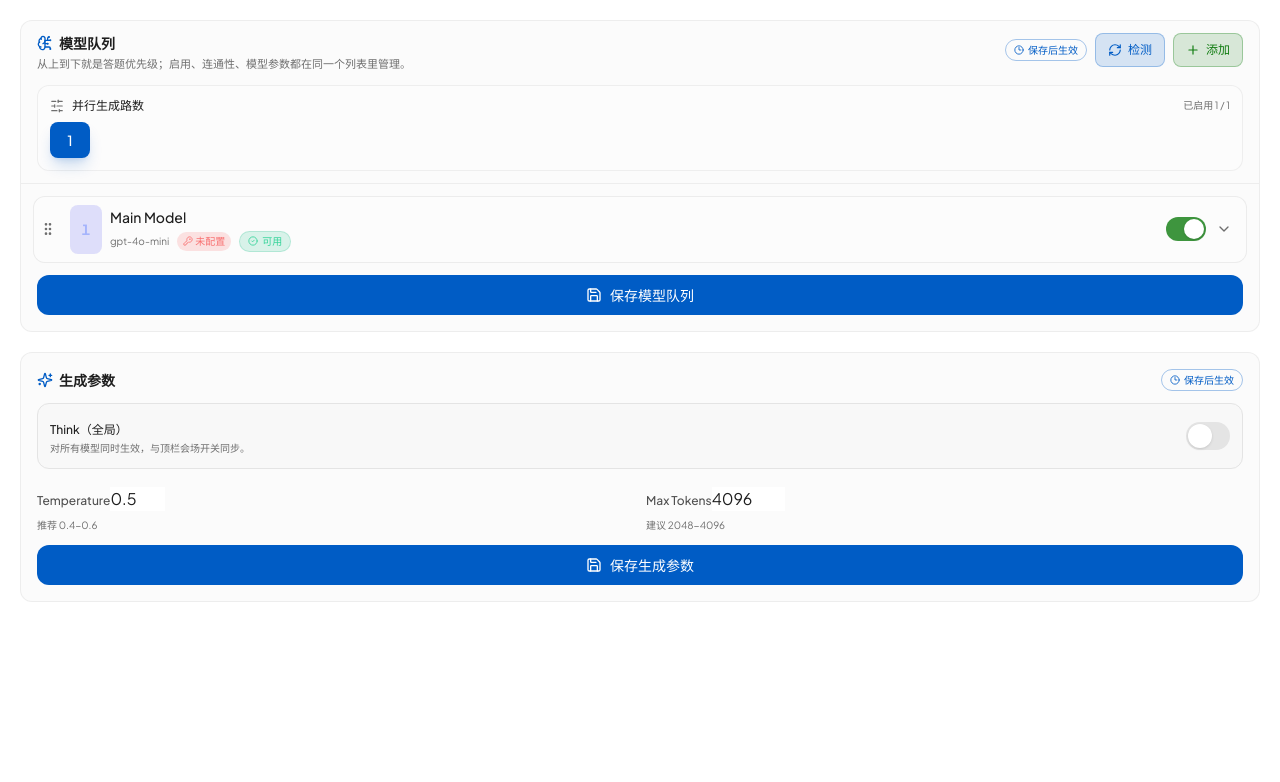
Scenario: ModelsTab state sync › fetches remote models and fills name plus model id from the dropdown
Check: the button "保存模型队列" is shown, box left=37, top=275, right=1243, bottom=315
Click the text "Main Model" at (148, 217), box left=110, top=207, right=186, bottom=227
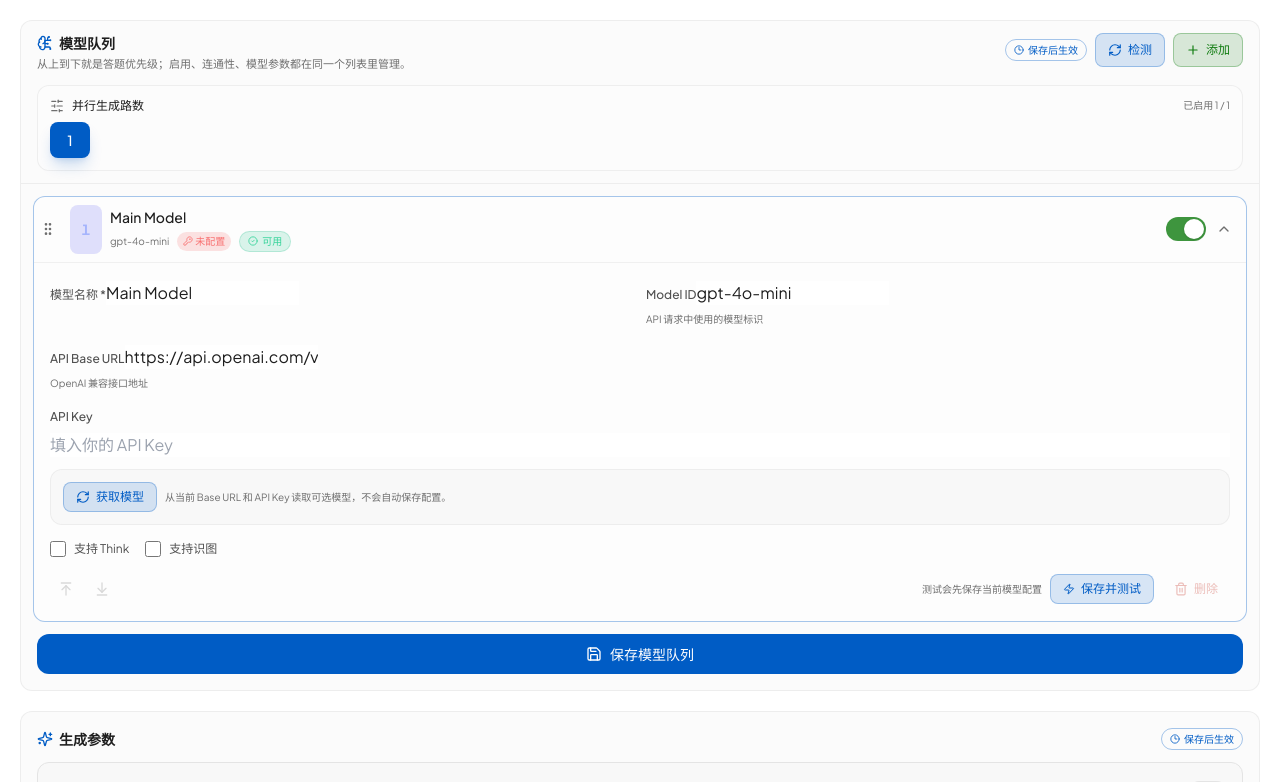
Type "sk-test" into the field with placeholder "填入你的 API Key" at (640, 445), box left=50, top=433, right=1230, bottom=457
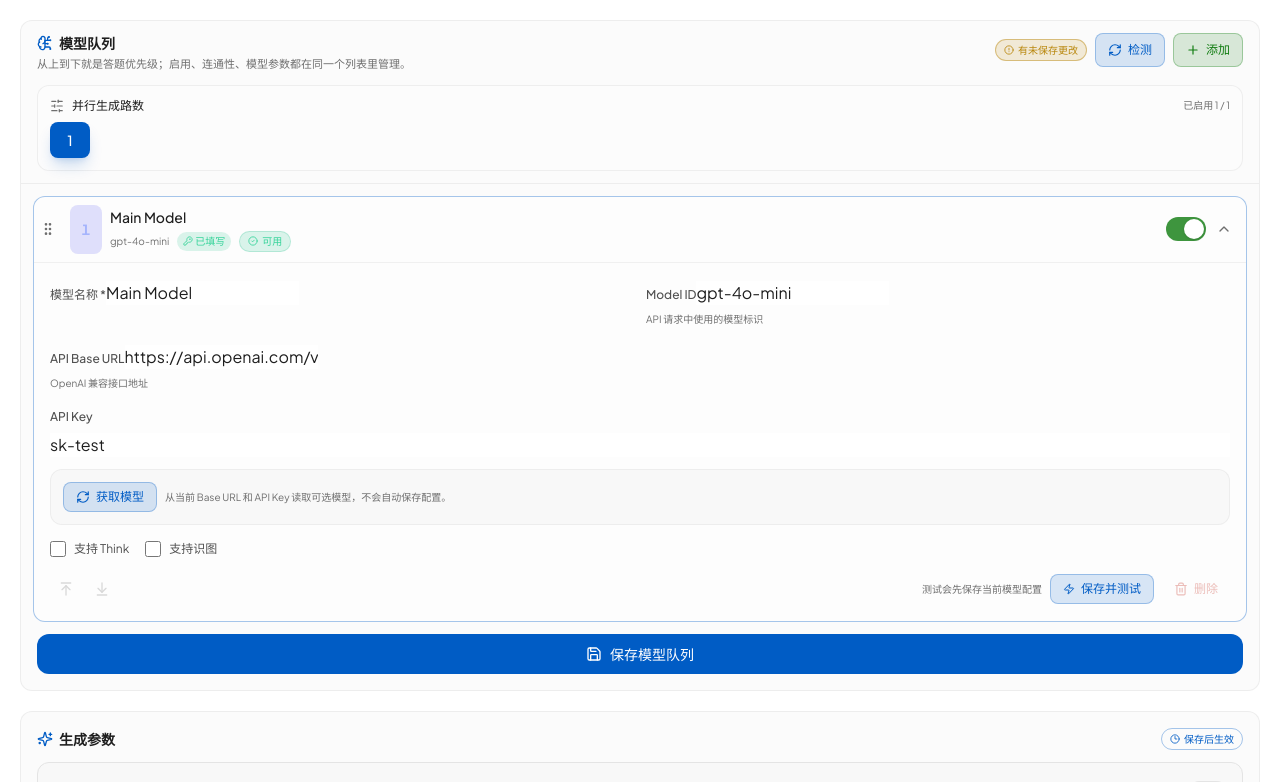
Click the button "获取模型" at (110, 497), box left=63, top=482, right=157, bottom=512
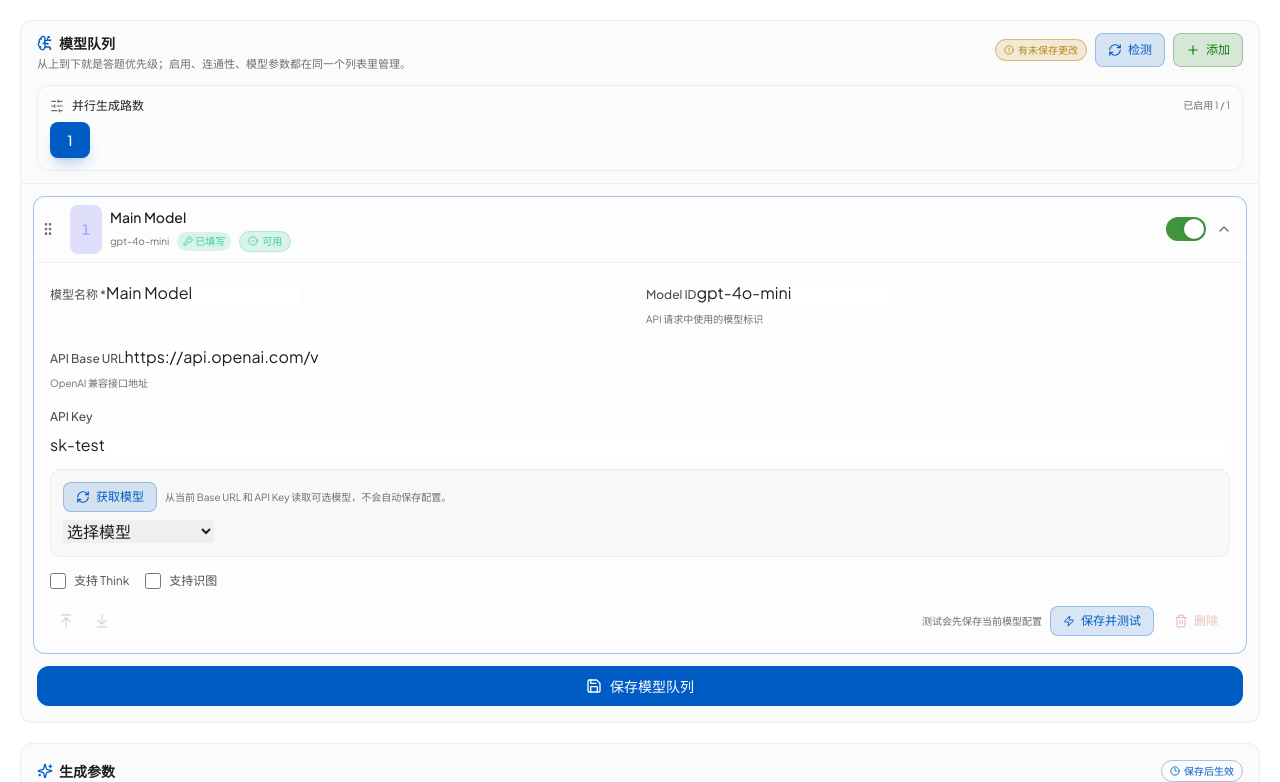
Select "gpt-4o-mini" in the dropdown named "选择远端模型" at (138, 532), box left=63, top=520, right=214, bottom=543
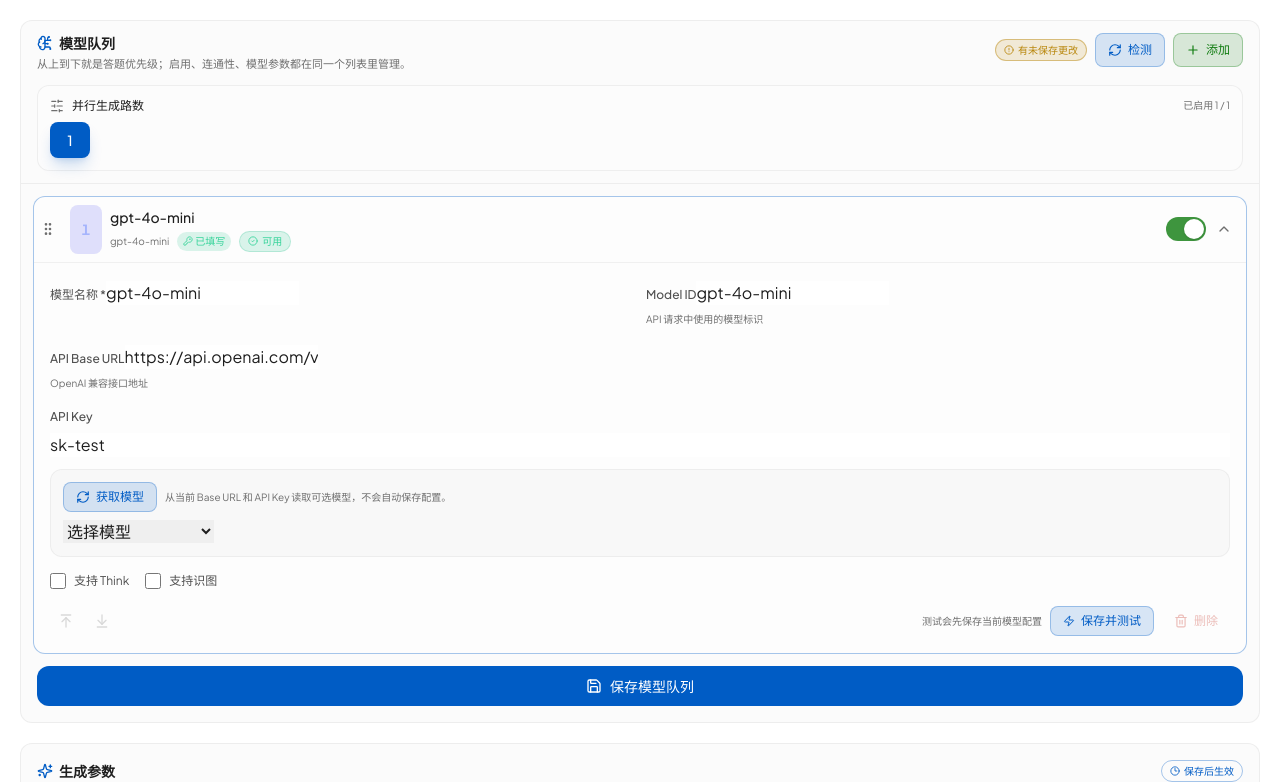
Check: the field with placeholder "如：gpt-4o、ep-xxxxx" next to "Model ID" holds "gpt-4o-mini", box left=696, top=281, right=890, bottom=305
Check: the text "有未保存更改" is shown, box left=1018, top=42, right=1078, bottom=58
Check: the field with placeholder "如：GPT-4o、DeepSeek-V3" next to "模型名称 *" holds "gpt-4o-mini", box left=106, top=281, right=299, bottom=305
